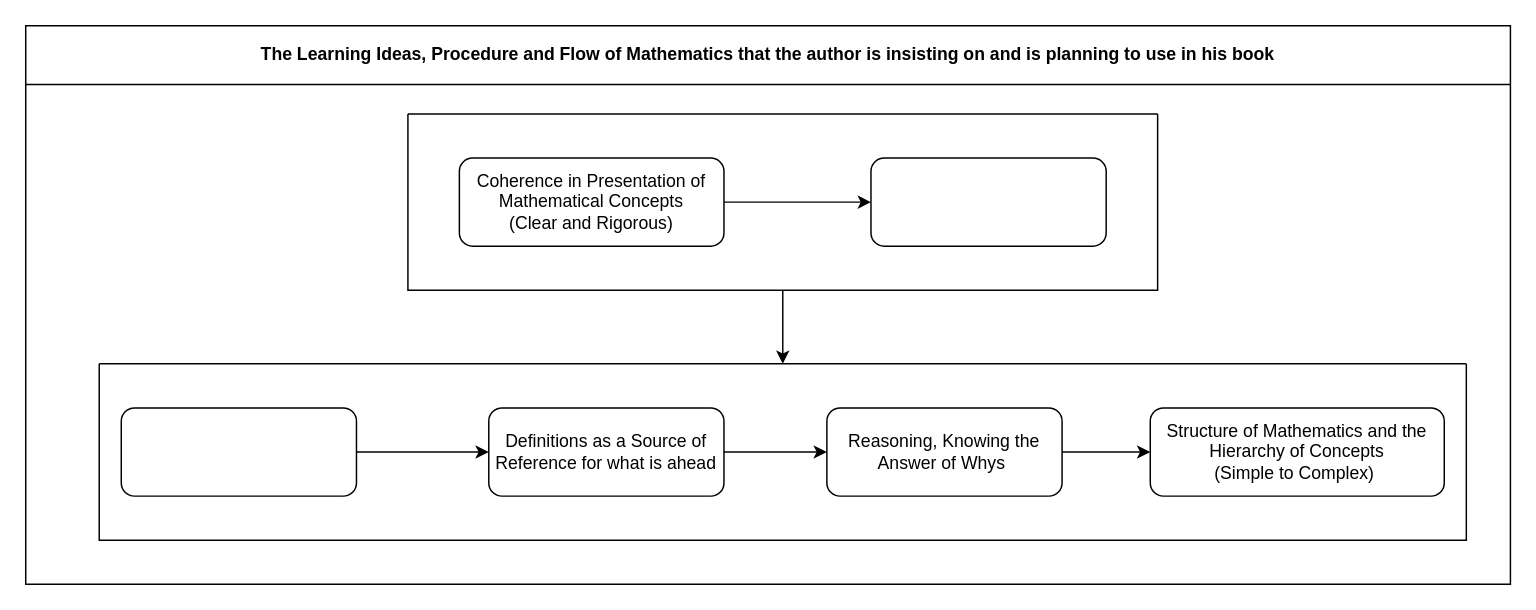
Image size: 1536x610. Some labels were removed from this diagram. Each missing label, with the box of its shape:
Pression, not Mathematical Poetry: (120, 406, 356, 496)
Systematic Development of the Continuity of the Concepts Evolution: (870, 157, 1106, 246)
